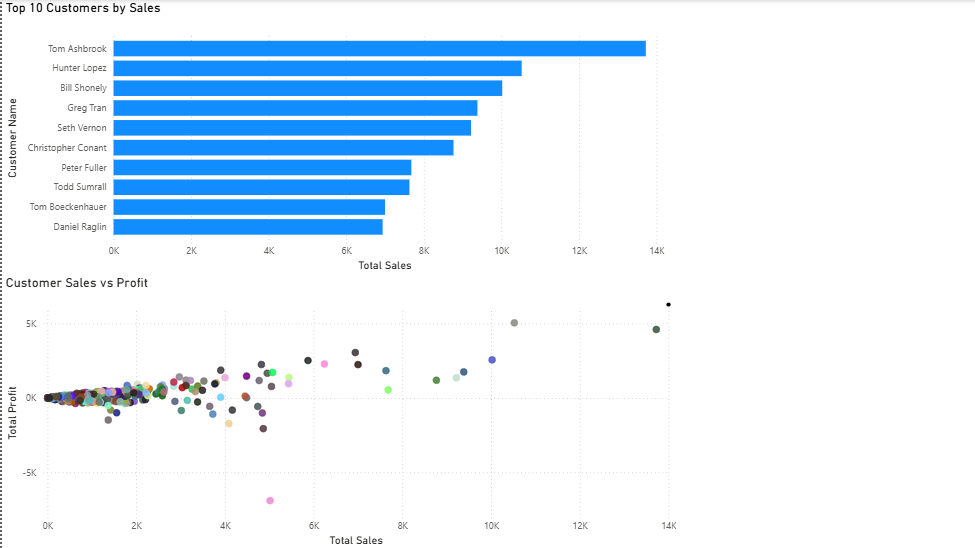

The page's visual inventory and layout, read from the dashboard file:
{"tool":"powerbi","page":{"name":"Customer","canvas":[1280,720],"ordinal":2},"visuals":[{"type":"barChart","title":"Top 10 Customers by Sales","fields":{"Category":["Superstore.Customer Name"],"Y":["Superstore.Total Sales"]},"box":[0,0,1002.2,380.2],"z":0},{"type":"scatterChart","title":"Customer Sales vs Profit","fields":{"Series":["Superstore.Customer Name"],"X":["Superstore.Total Sales"],"Y":["Superstore.Total Profit"]},"box":[0,380.2,1016.6,339.8],"z":2000}]}

Visuals, with their boxes in screenshot pixels (x1, y1, x2, y2), scaled from the page's 1280x720 canvas onto the 975x548 screenshot:
"Top 10 Customers by Sales" barChart: crop(0, 0, 763, 289)
"Customer Sales vs Profit" scatterChart: crop(0, 289, 774, 547)
